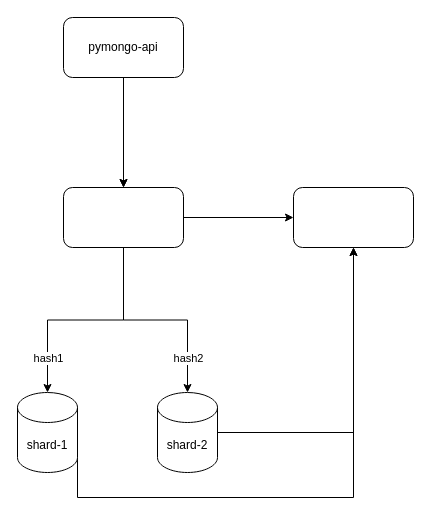
The diagram is 431 pixels wide and 523 high, and some of its shapes have lost their labels. The shapes that lost their labels are listed below. From the top down, each one's box as (x1, y1, x2, y2) in pixels, then its label:
(62, 186, 184, 248): Router
(292, 186, 414, 248): ConfigServ
